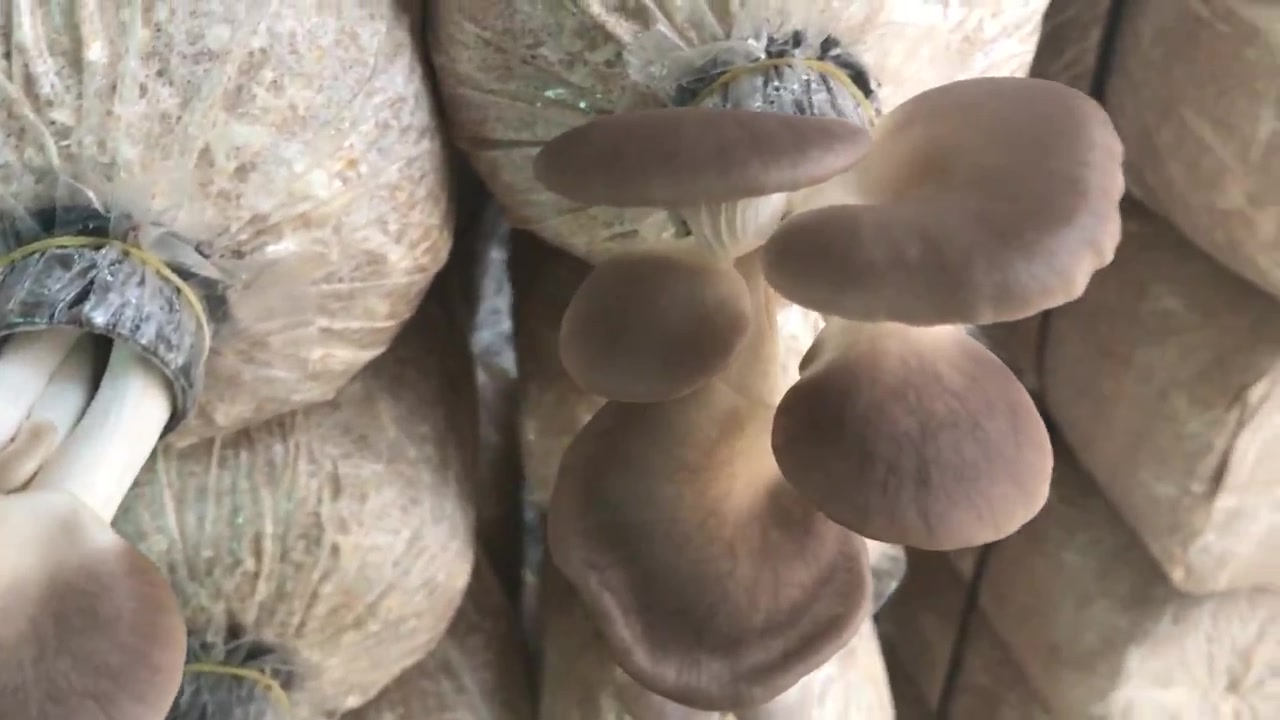nam: (531, 52, 1122, 705), (1, 243, 210, 720)
